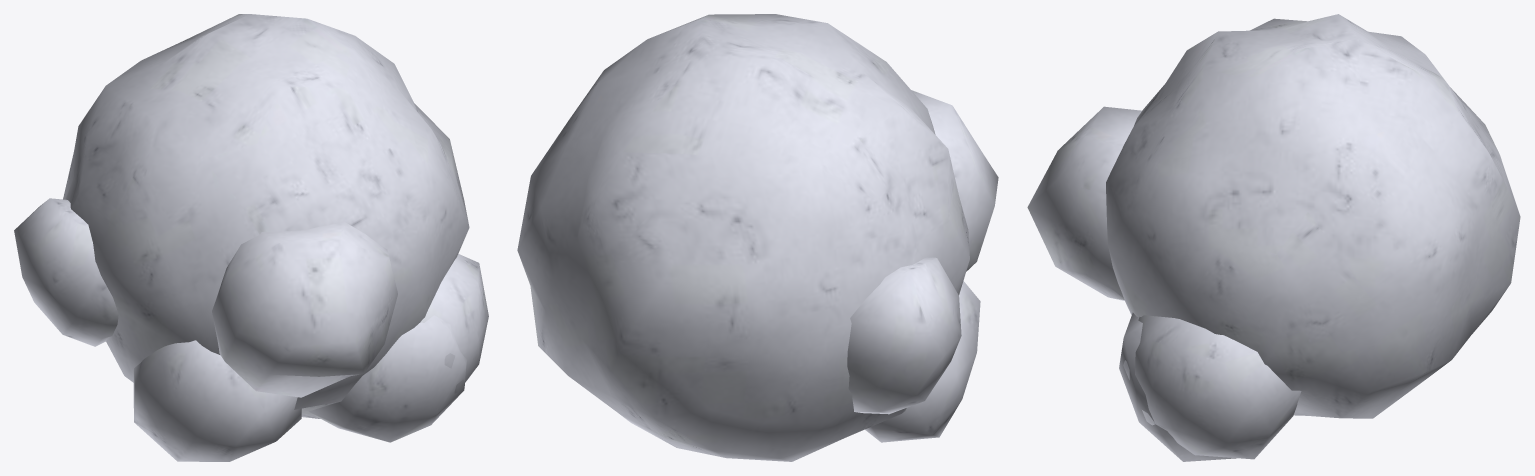
Rendered from snow_slough.glb.
3 views of the same model, side by side, from view 1: azimuth 30°, elevation 25°; view 2: azimuth 150°, elevation 25°; view 3: azimuth 270°, elevation 25° (orthographic). The views are drawn at different scales.
Visible parts, largest first — view 1: snow_slough; view 2: snow_slough; view 3: snow_slough.
Boxes of the visible parts, x1=… form: snow_slough: x1=14, y1=14, x2=488, y2=461; snow_slough: x1=517, y1=14, x2=998, y2=461; snow_slough: x1=1027, y1=14, x2=1520, y2=461.
Bounding box in the file's own units: 1.38 × 1.35 × 1.51.
Materials: 1 (1 with a texture image).
